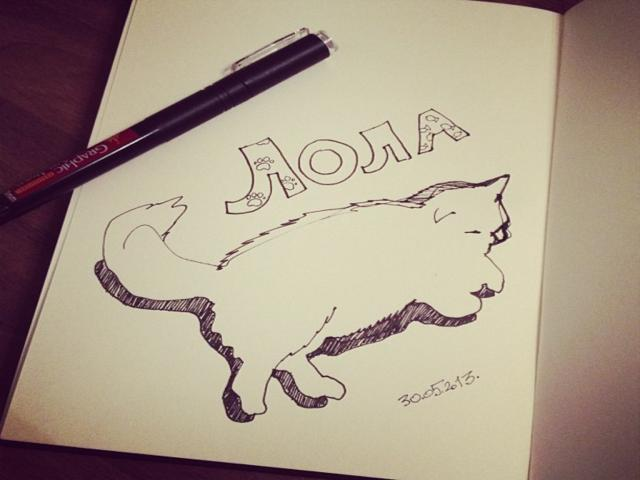Cat: (100, 174, 512, 418)
